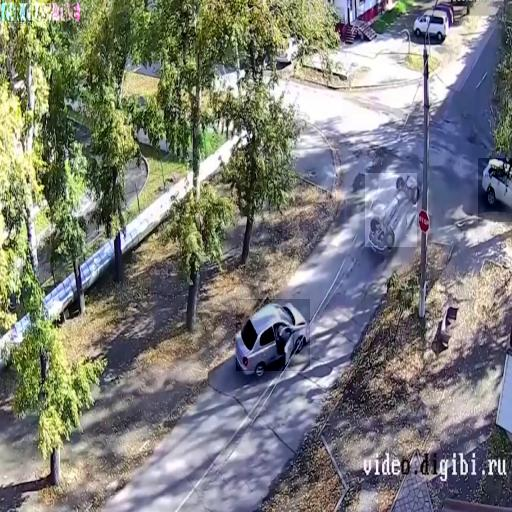小汽车: (236, 299, 310, 371), (365, 173, 417, 247), (478, 158, 512, 222), (411, 10, 450, 40)
